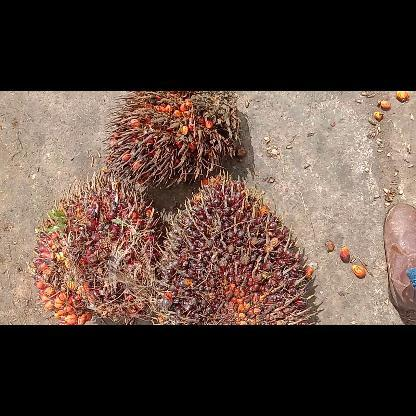Kurang masak: (155, 176, 316, 324)
TBS masak: (31, 180, 156, 324)
Terlalu masak: (104, 91, 246, 189)
